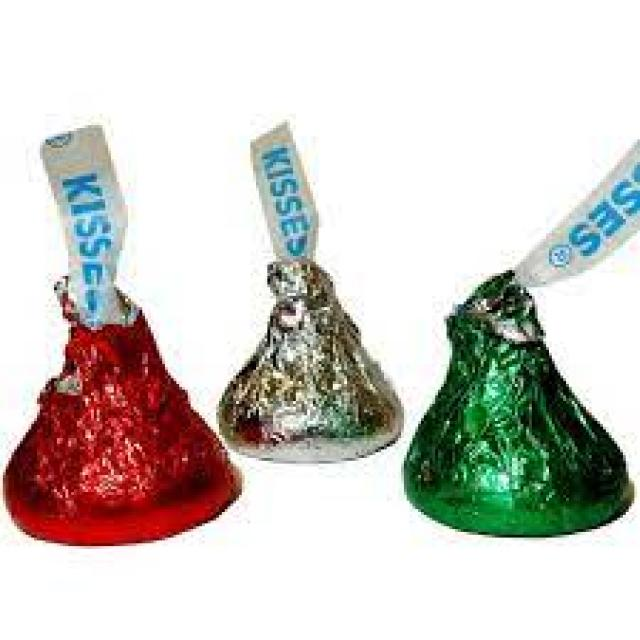kisses: (218, 238, 406, 470)
